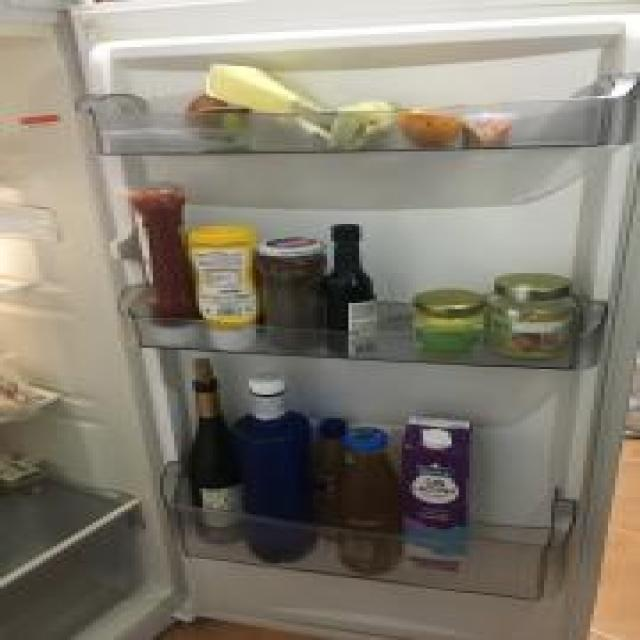marmelade: (484, 268, 576, 362)
milk: (398, 413, 476, 579)
